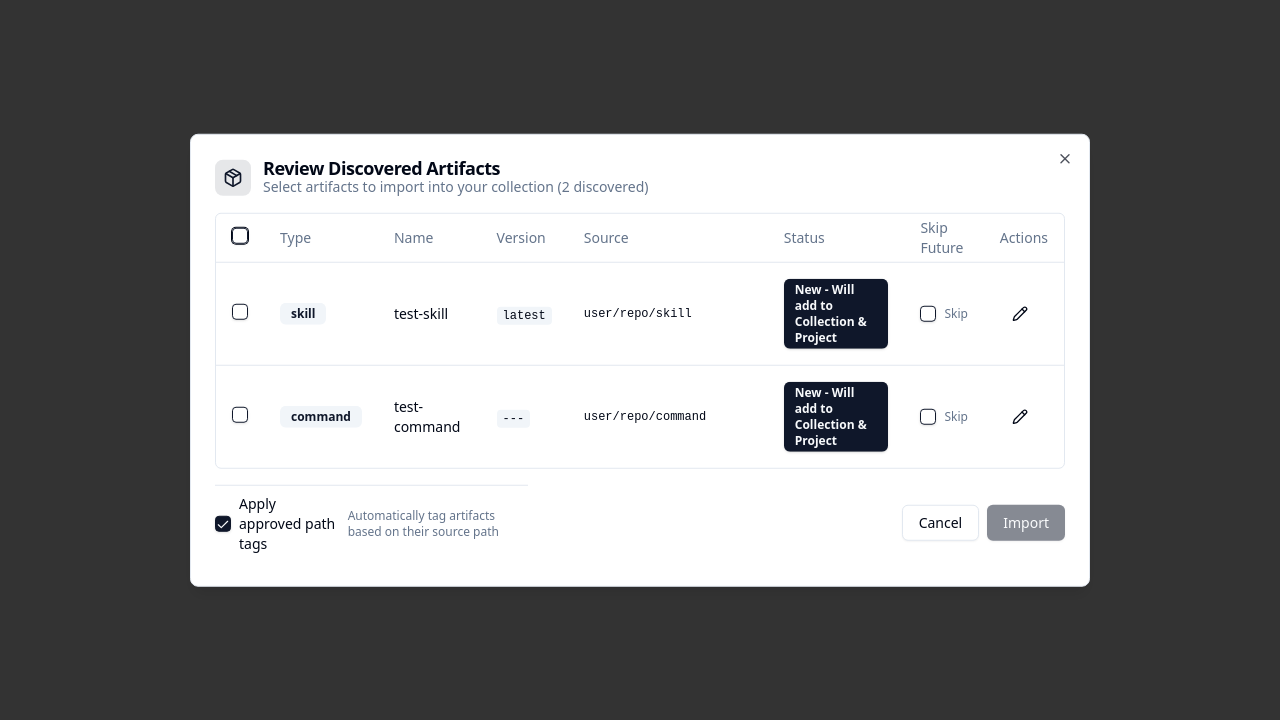
it: BulkImportModal › select all checkbox works
Click the checkbox named "Select all": (240, 236) x1=232 y1=228 x2=248 y2=244
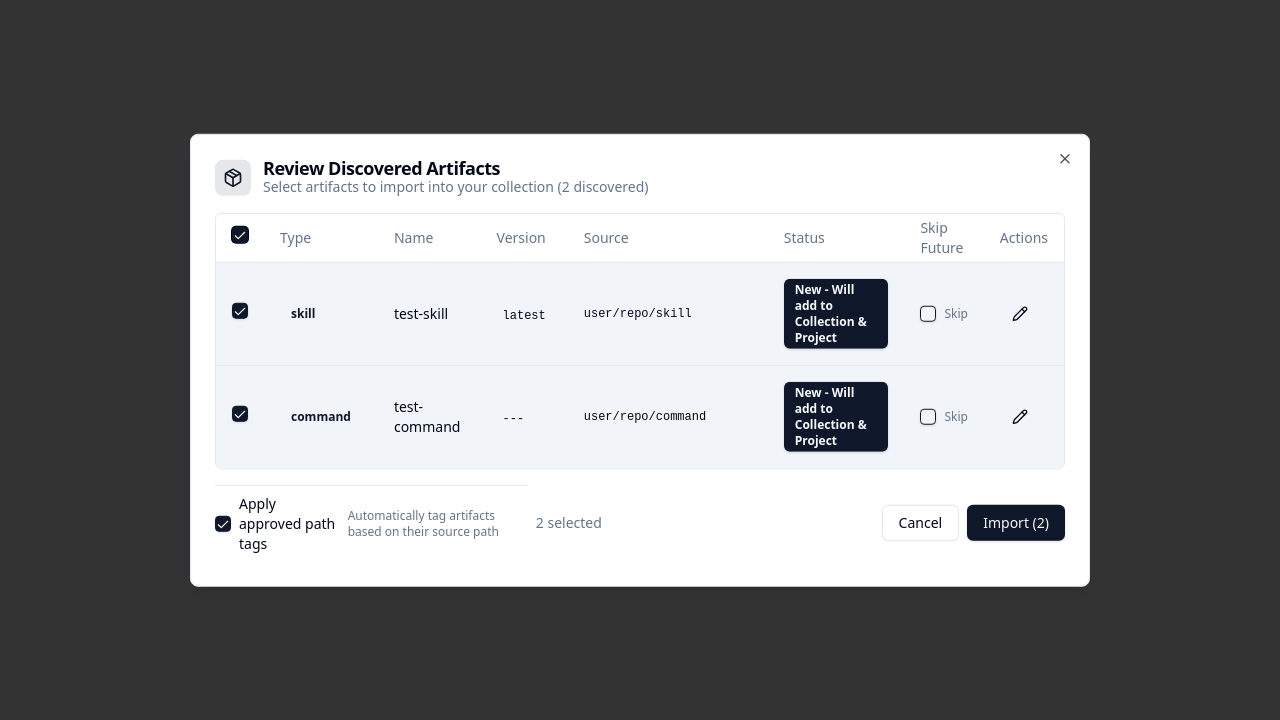
Expected: the text "2 selected" is shown, x1=536 y1=513 x2=602 y2=533
